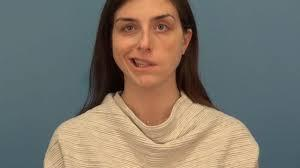strokeEyeMid: (114, 13, 178, 35)
strokeMouthSevere: (126, 54, 160, 74)
